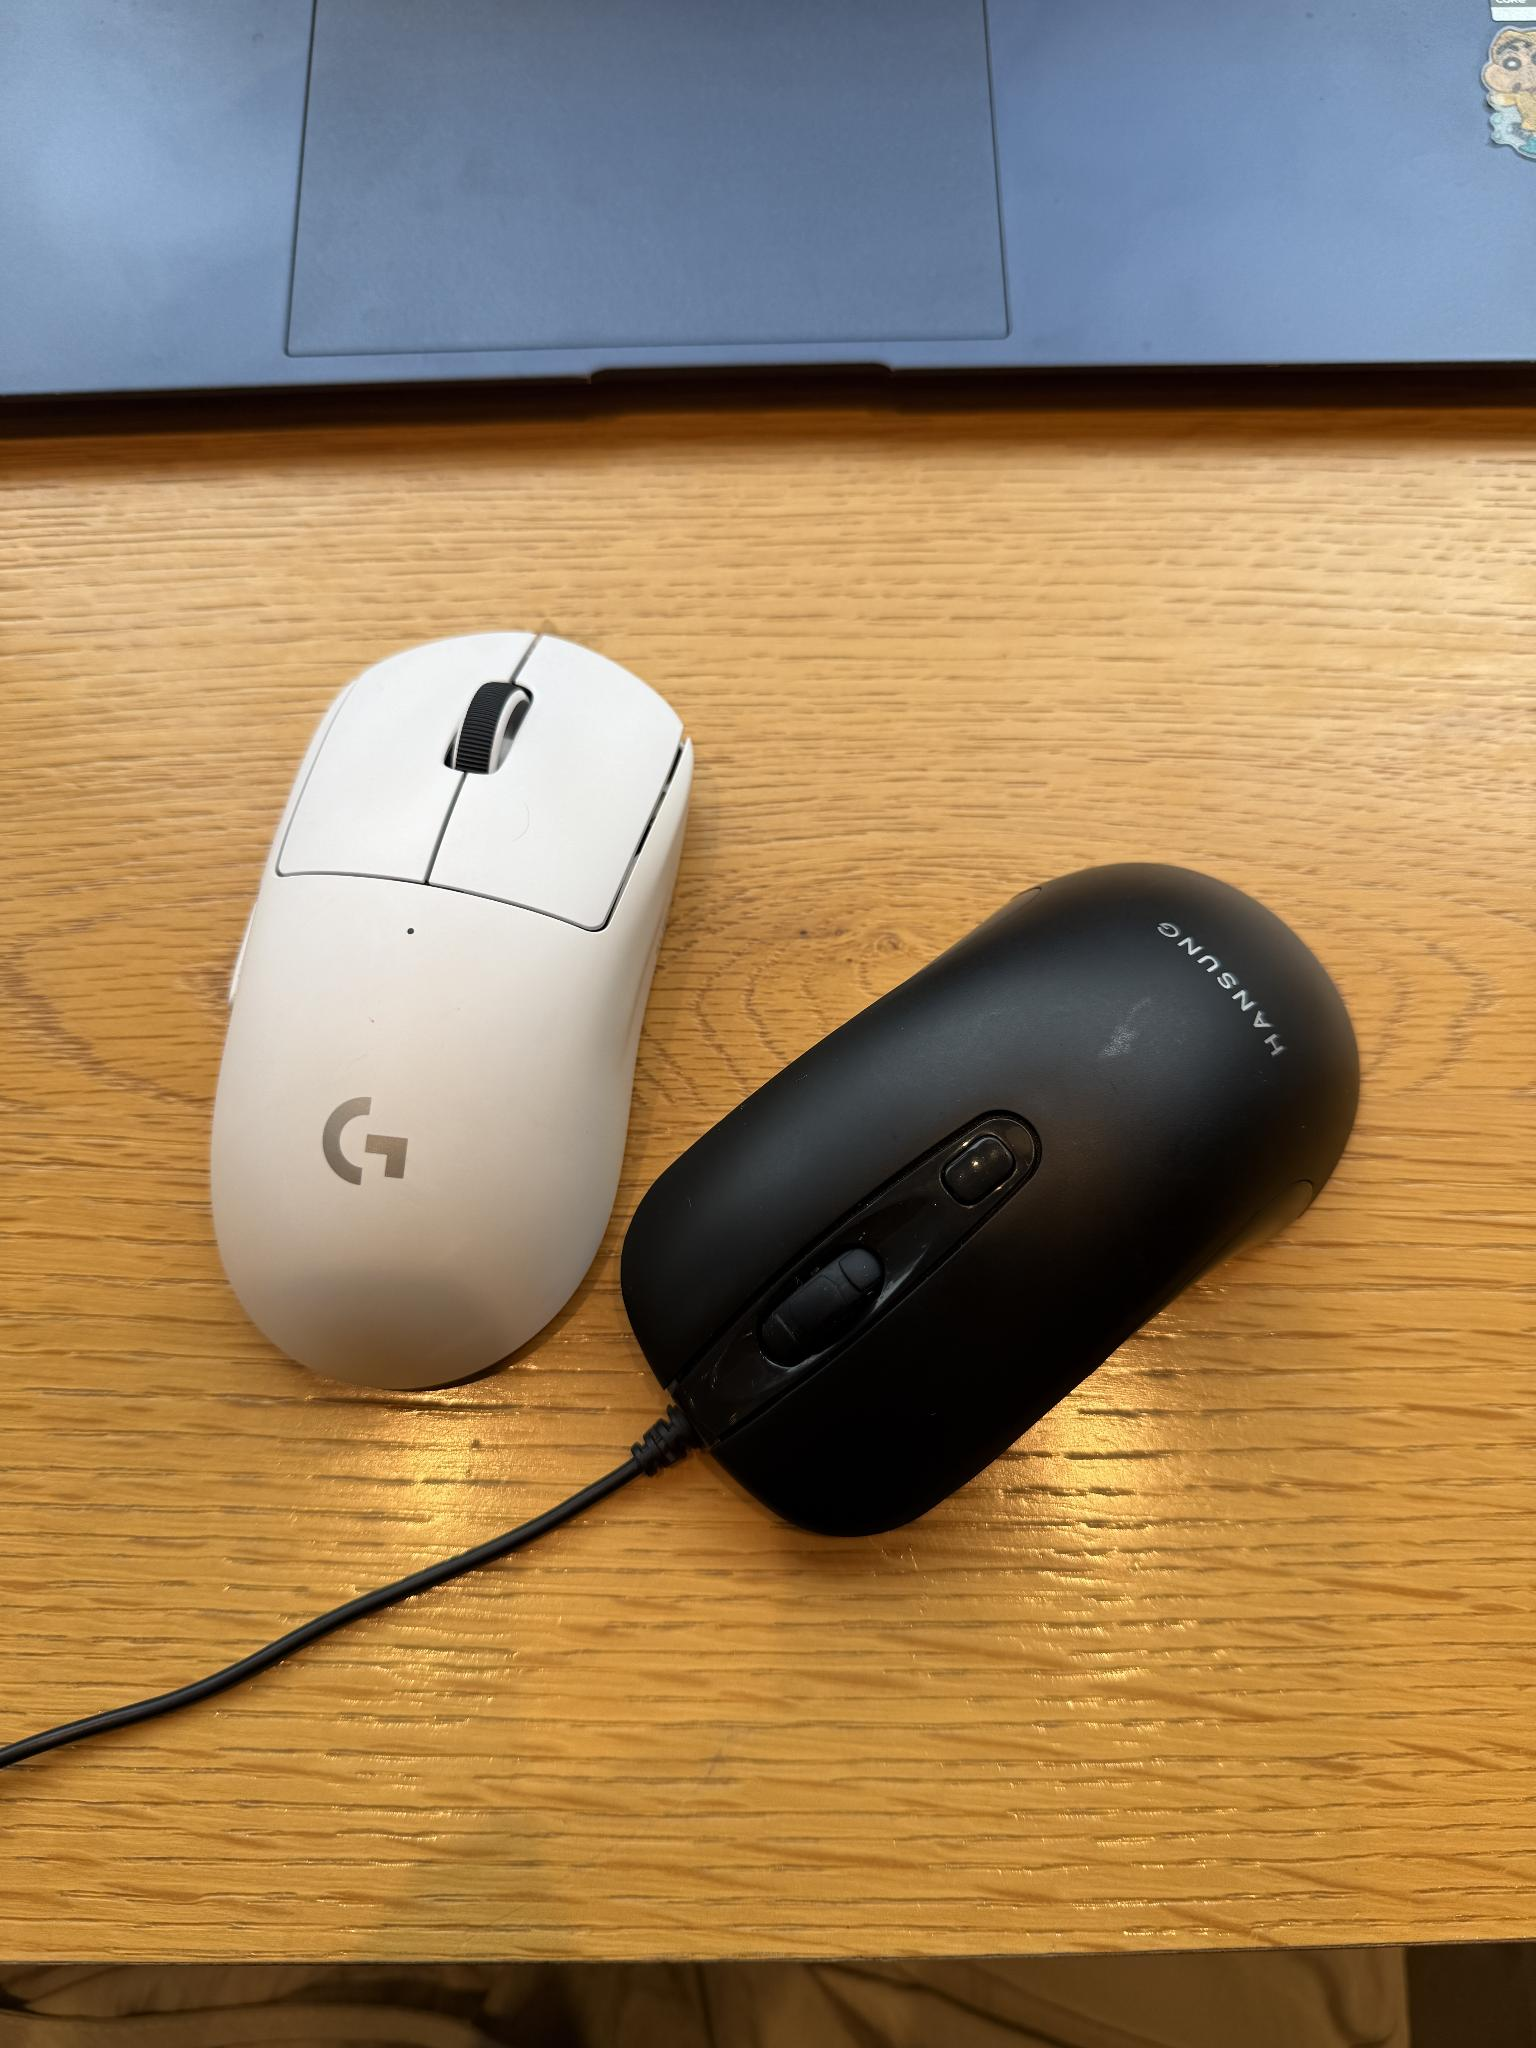front: (616, 864, 1373, 1535), (215, 621, 695, 1395)
